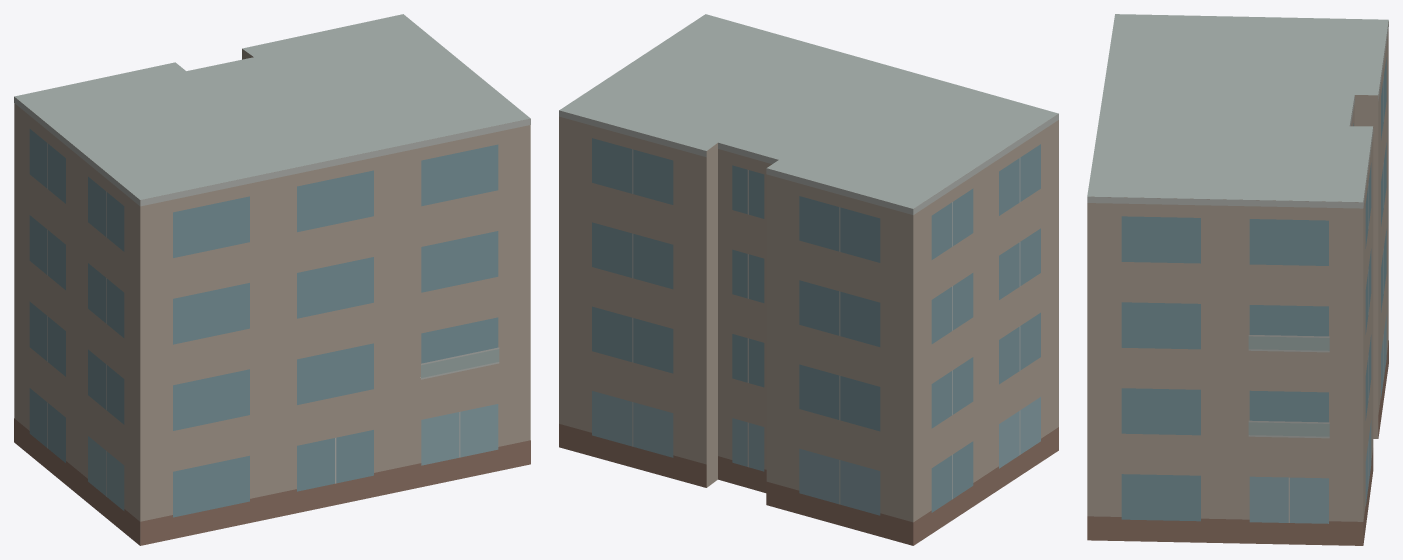
The model's file is survey-upis-32558833.glb.
The picture shows the model from 3 angles, left to right: view 1: azimuth 30°, elevation 25°; view 2: azimuth 150°, elevation 25°; view 3: azimuth 270°, elevation 25°; orthographic projection. The views are drawn at different scales.
Parts seen in each view (by area): view 1: survey-upis-32558833.tmp; view 2: survey-upis-32558833.tmp; view 3: survey-upis-32558833.tmp.
Part boxes in pixels (x1,y1,x2,y2): survey-upis-32558833.tmp: [14, 14, 530, 545]; survey-upis-32558833.tmp: [559, 14, 1058, 545]; survey-upis-32558833.tmp: [1087, 14, 1388, 545].
Size of the model in its own units: 15.55 by 13.23 by 10.54.
